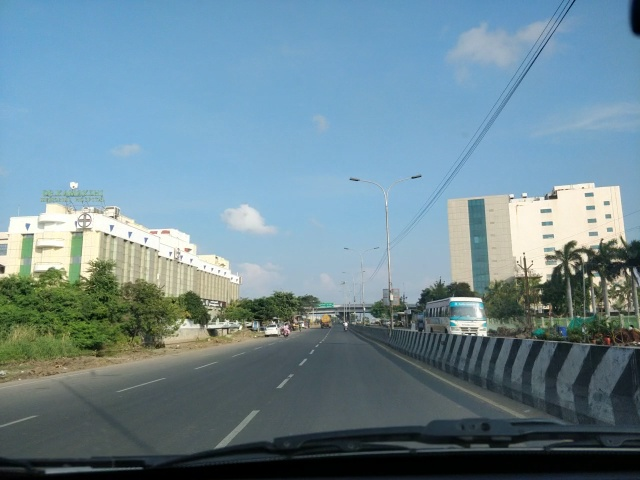bus: (424, 295, 489, 338)
car: (266, 323, 281, 336)
motorbike: (283, 324, 291, 338), (343, 321, 349, 332)
truck: (320, 314, 331, 330)
